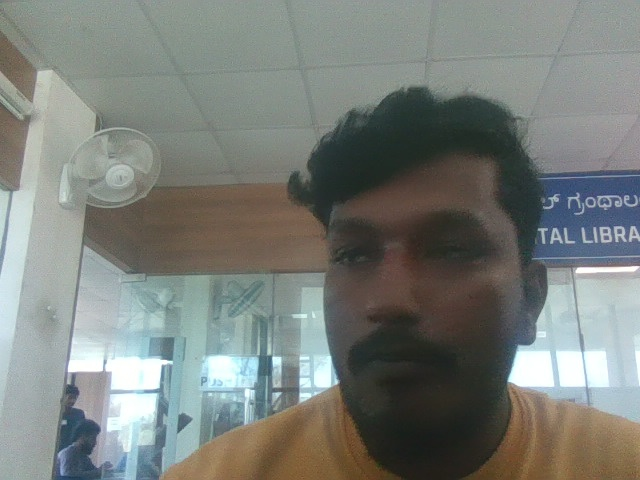real: (290, 59, 564, 448)
